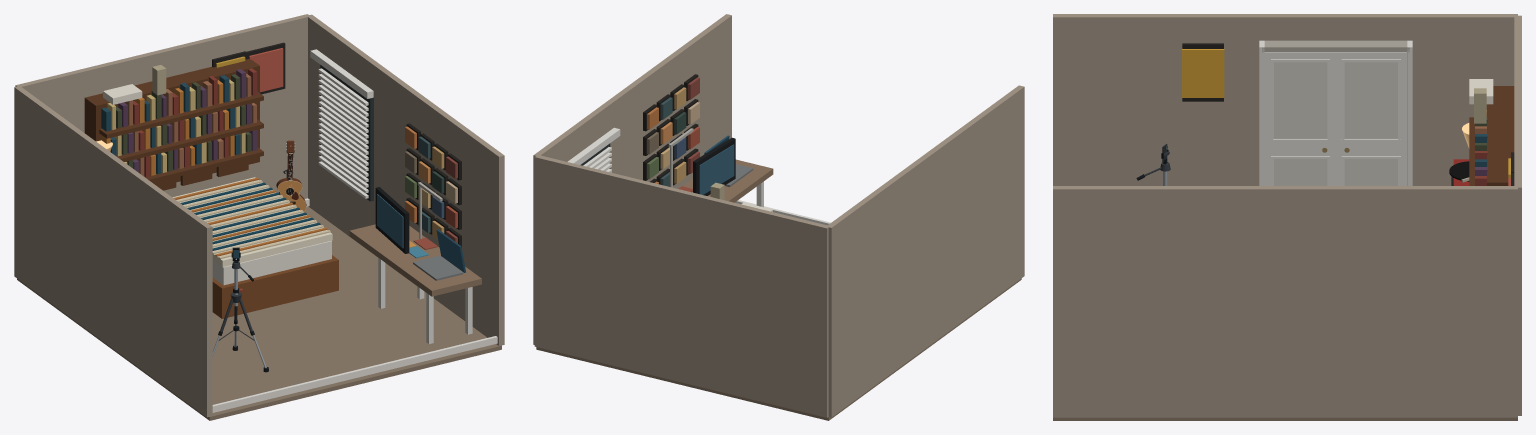
Rendered from room.glb.
3 views of the same model, side by side, from view 1: azimuth 30°, elevation 25°; view 2: azimuth 150°, elevation 25°; view 3: azimuth 270°, elevation 25° (orthographic). The views are drawn at different scales.
Parts seen in each view (by area): view 1: Left_Wall, Carpet_Floor, Right_Wall, Back_Wall, Storage_Bed_Frame, Duvet_Base, Desk_Top, Baseboard_204, Library_Carcass, Mattress, Shelf_3, Shelf_2 (+9 smaller); view 2: Back_Wall, Left_Wall, Right_Wall, Carpet_Floor, Monitor_Display, Desk_Top, Monitor_Screen, Window_Trim_Top; view 3: Right_Wall, Left_Wall, Closet_Inset_Panel_1_2, Closet_Inset_Panel_2_2, Closed_Closet_Door_1, Closed_Closet_Door_2, Library_Carcass, Back_Wall, Madrid_Poster, Carpet_Floor, Closet_Top_Track, Closet_Inset_Panel_1_1 (+5 smaller).
Boxes of the visible parts, left/top/right/bottom form: Left_Wall: left=14, top=86, right=212, bottom=417; Carpet_Floor: left=17, top=206, right=501, bottom=420; Right_Wall: left=308, top=14, right=504, bottom=345; Back_Wall: left=15, top=14, right=309, bottom=198; Storage_Bed_Frame: left=212, top=255, right=338, bottom=318; Duvet_Base: left=172, top=177, right=332, bottom=267; Desk_Top: left=349, top=224, right=481, bottom=296; Baseboard_204: left=212, top=336, right=497, bottom=412; Library_Carcass: left=84, top=59, right=259, bottom=182; Mattress: left=212, top=240, right=331, bottom=285; Shelf_3: left=99, top=91, right=263, bottom=138; Shelf_2: left=116, top=119, right=263, bottom=161; Back_Wall: left=534, top=155, right=829, bottom=417; Left_Wall: left=827, top=85, right=1024, bottom=417; Right_Wall: left=533, top=14, right=731, bottom=344; Carpet_Floor: left=536, top=278, right=1021, bottom=420; Monitor_Display: left=699, top=144, right=734, bottom=194; Desk_Top: left=682, top=159, right=773, bottom=202; Monitor_Screen: left=693, top=137, right=735, bottom=195; Window_Trim_Top: left=567, top=127, right=620, bottom=164; Right_Wall: left=1053, top=186, right=1517, bottom=417; Left_Wall: left=1053, top=14, right=1517, bottom=185; Closet_Inset_Panel_1_2: left=1344, top=62, right=1397, bottom=138; Closet_Inset_Panel_2_2: left=1274, top=62, right=1327, bottom=138; Closed_Closet_Door_1: left=1335, top=52, right=1406, bottom=185; Closed_Closet_Door_2: left=1264, top=52, right=1336, bottom=185; Library_Carcass: left=1487, top=86, right=1514, bottom=185; Back_Wall: left=1514, top=15, right=1521, bottom=415; Madrid_Poster: left=1182, top=49, right=1224, bottom=97; Carpet_Floor: left=1053, top=417, right=1517, bottom=420; Closet_Top_Track: left=1262, top=40, right=1409, bottom=52; Closet_Inset_Panel_1_1: left=1344, top=159, right=1397, bottom=185.
Bounding box in the file's own units: 4.28 × 2.66 × 4.84.
